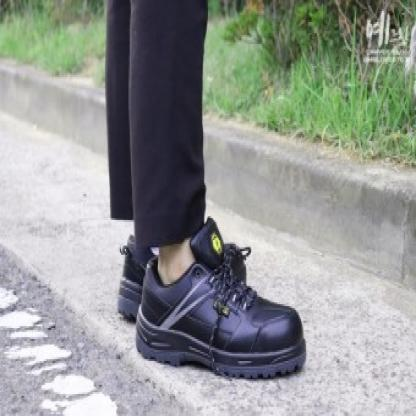safety-shoe: (136, 259, 311, 393)
